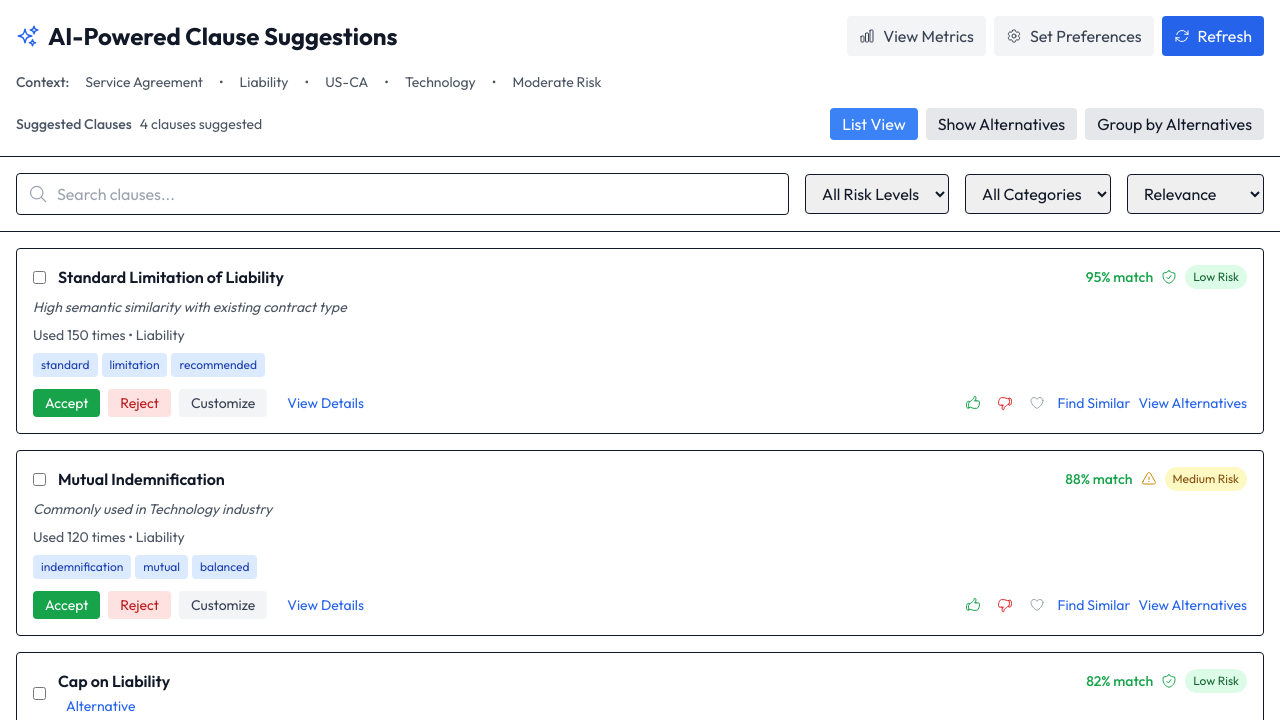
Test case: ClauseSuggestions › Search and Filter › should toggle alternative view
Click the button "Show Alternatives".
click(1001, 124)  # box [926,108,1077,140]
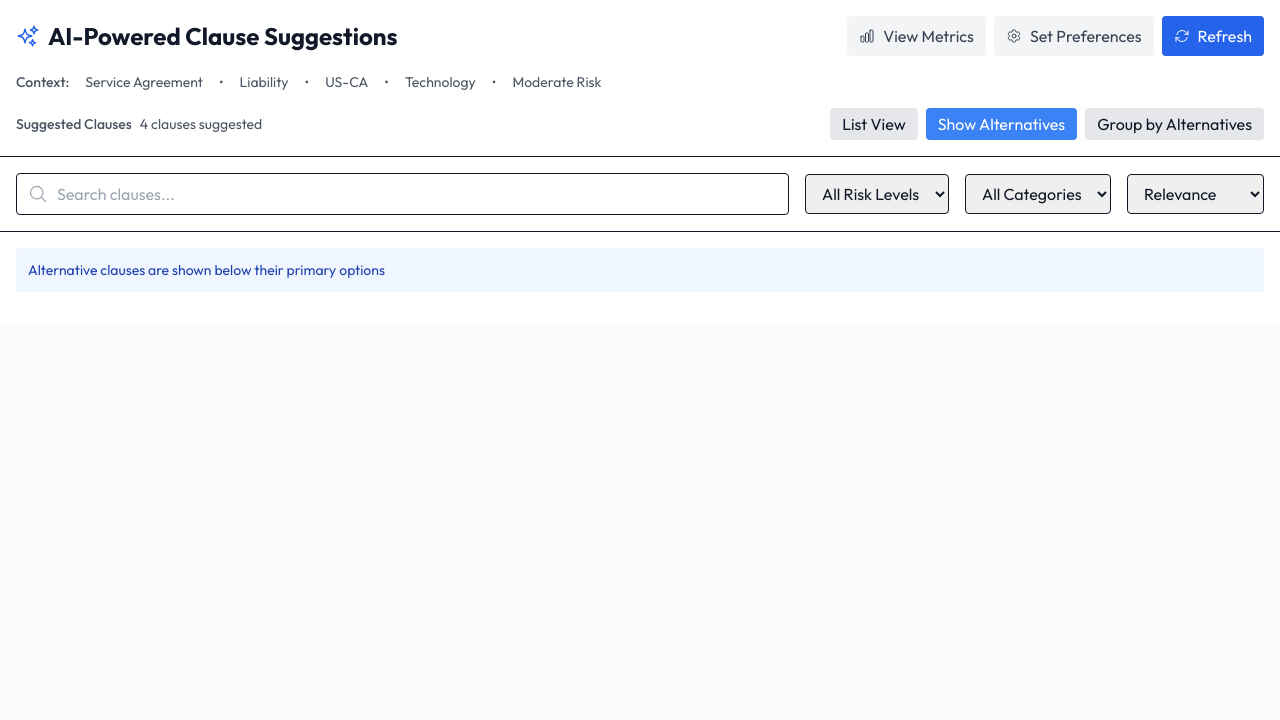
Result: the element with test id "alternatives-view" is shown at [16,248,1264,292]
